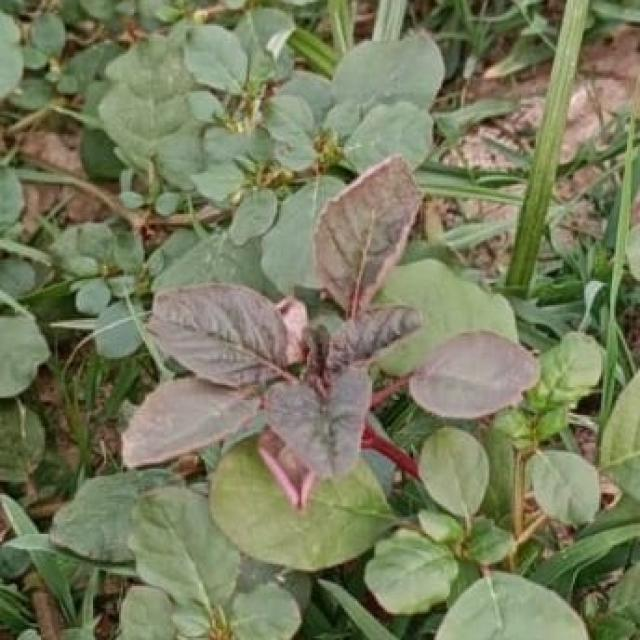plant: (122, 156, 538, 504)
